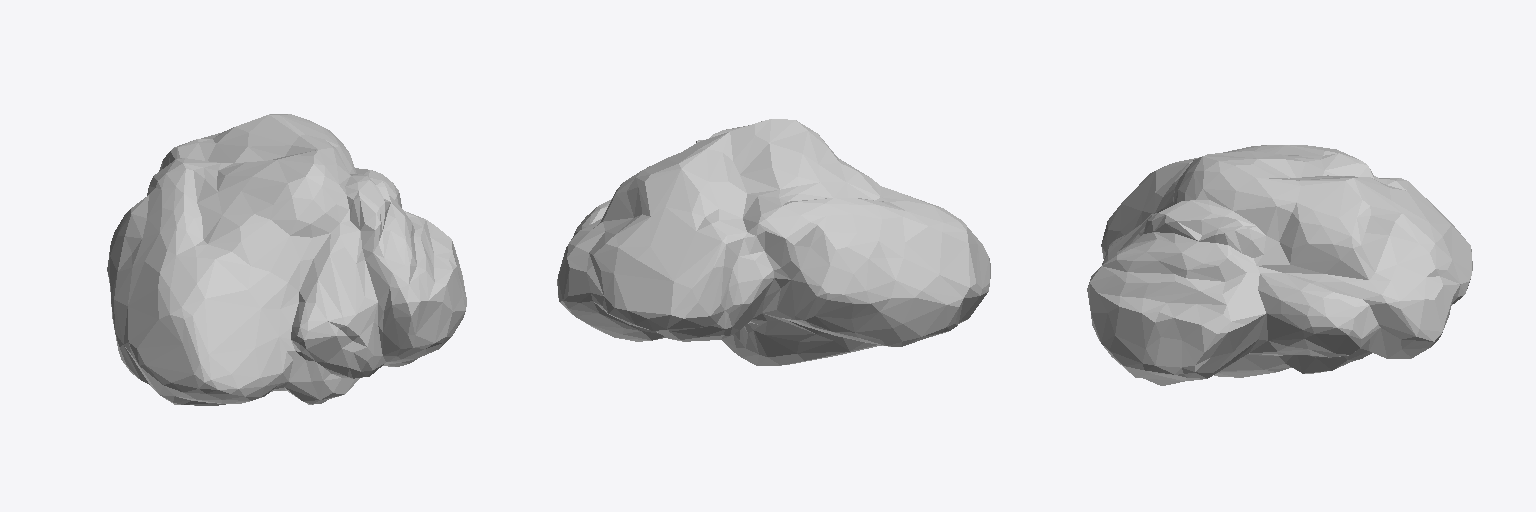
The model's file is rock.obj.
3 views of the same model, side by side, from view 1: azimuth 30°, elevation 25°; view 2: azimuth 150°, elevation 25°; view 3: azimuth 270°, elevation 25° (orthographic).
Parts seen in each view (by area): view 1: Rock; view 2: Rock; view 3: Rock.
Part boxes in pixels (x1,y1,x2,y2): Rock: (107, 114, 466, 405); Rock: (557, 119, 990, 365); Rock: (1087, 145, 1472, 385).
Bounding box in the file's own units: 94.33 × 59.19 × 95.69.